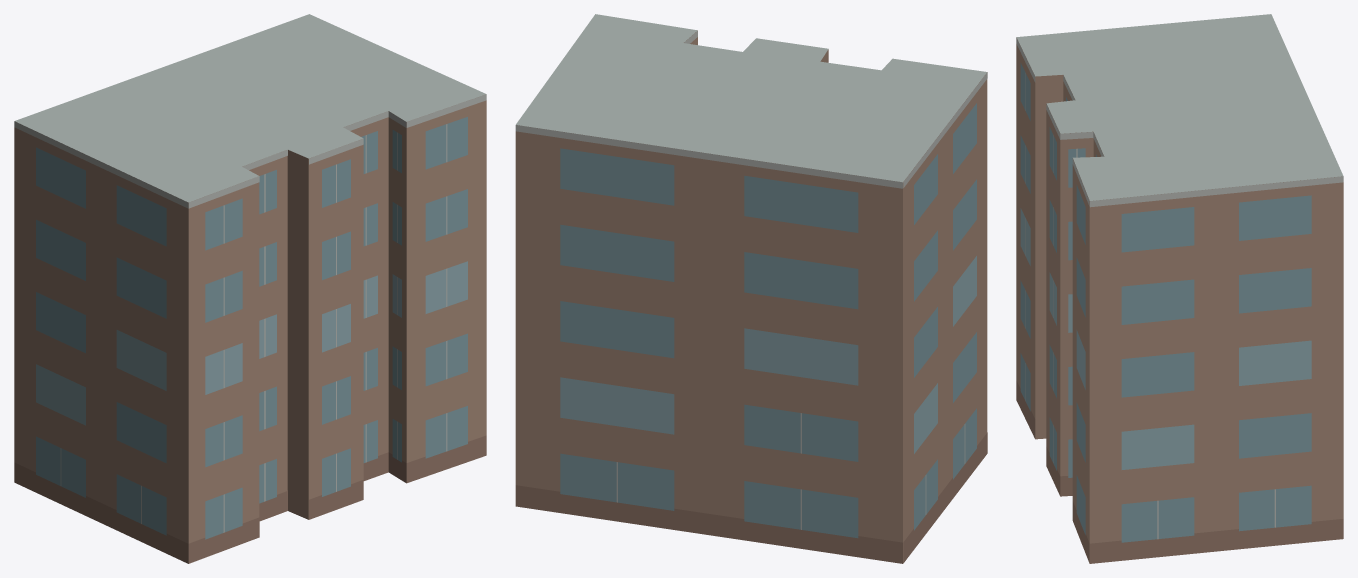
Rendered from survey-upis-32735656.glb.
3 renders of one model, left to right at view 1: azimuth 30°, elevation 25°; view 2: azimuth 150°, elevation 25°; view 3: azimuth 270°, elevation 25°, orthographic. The views are drawn at different scales.
Parts seen in each view (by area): view 1: survey-upis-32735656.tmp; view 2: survey-upis-32735656.tmp; view 3: survey-upis-32735656.tmp.
Boxes of the visible parts, <box> form: survey-upis-32735656.tmp: <box>14,14,486,563</box>; survey-upis-32735656.tmp: <box>515,14,987,563</box>; survey-upis-32735656.tmp: <box>1016,14,1343,563</box>.
Size of the model in its own units: 15.82 by 14.3 by 11.7.
